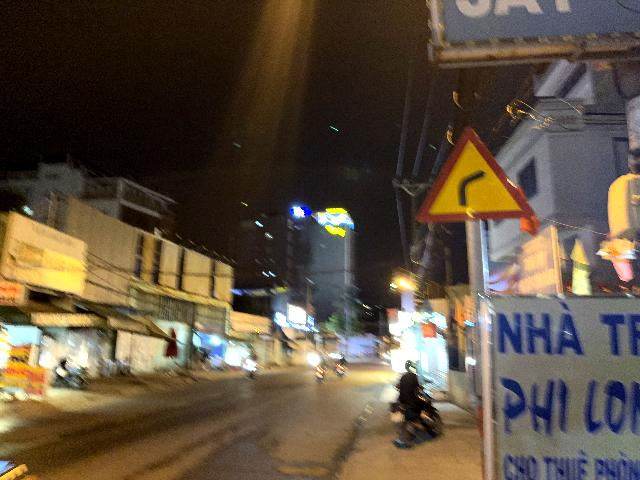cho-ngoat-nguy-hiem-ben-phai: (416, 126, 535, 225)
